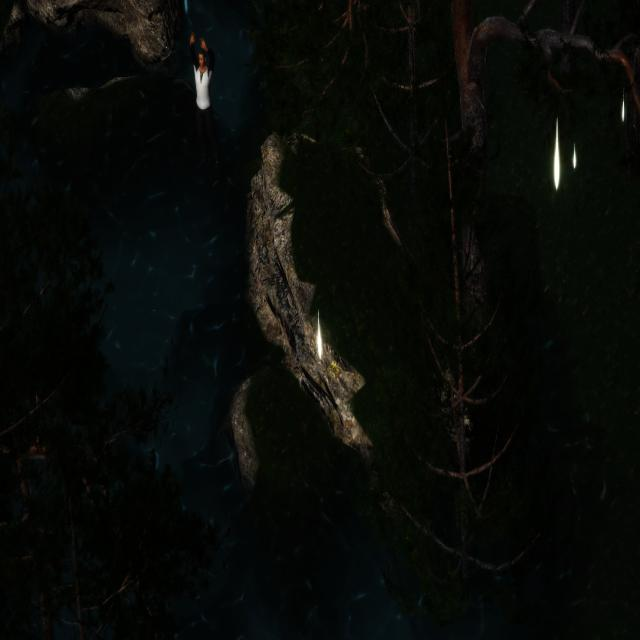Human: (185, 30, 228, 177)
